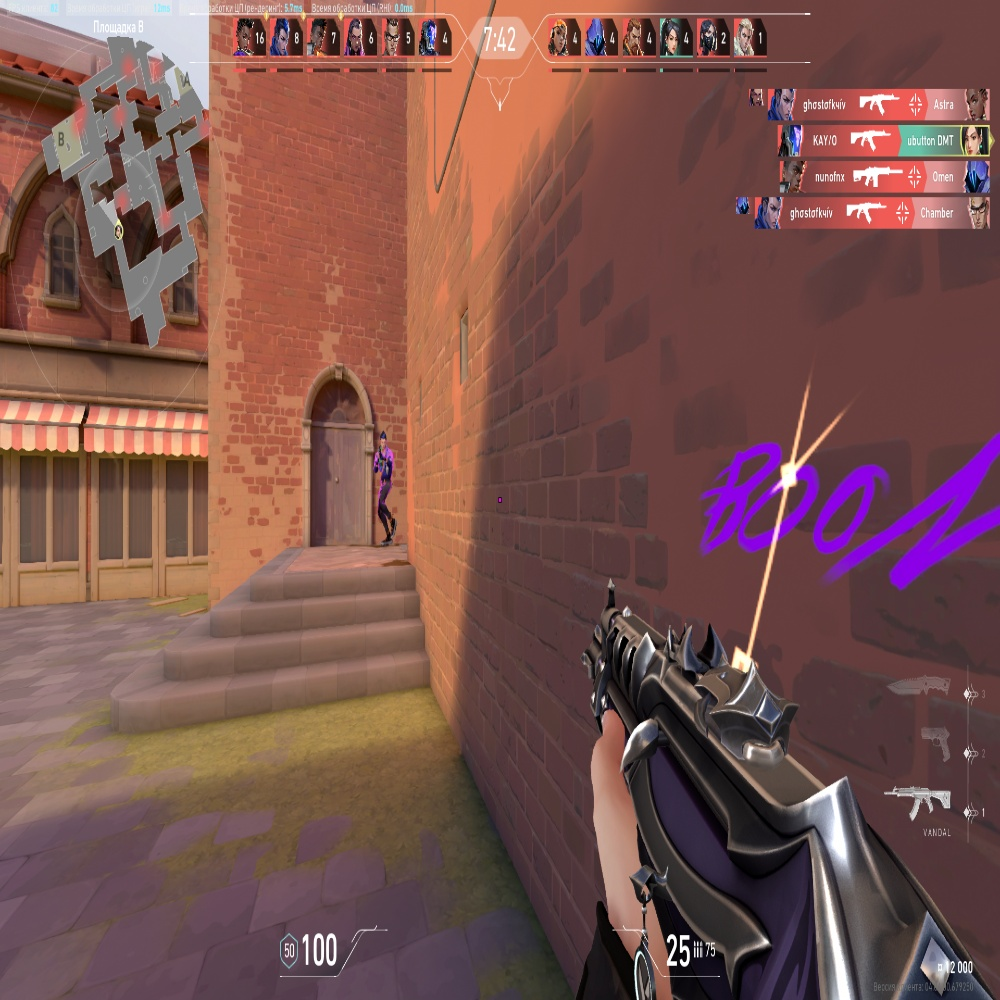body: (375, 454, 394, 486)
head: (380, 433, 386, 449)
